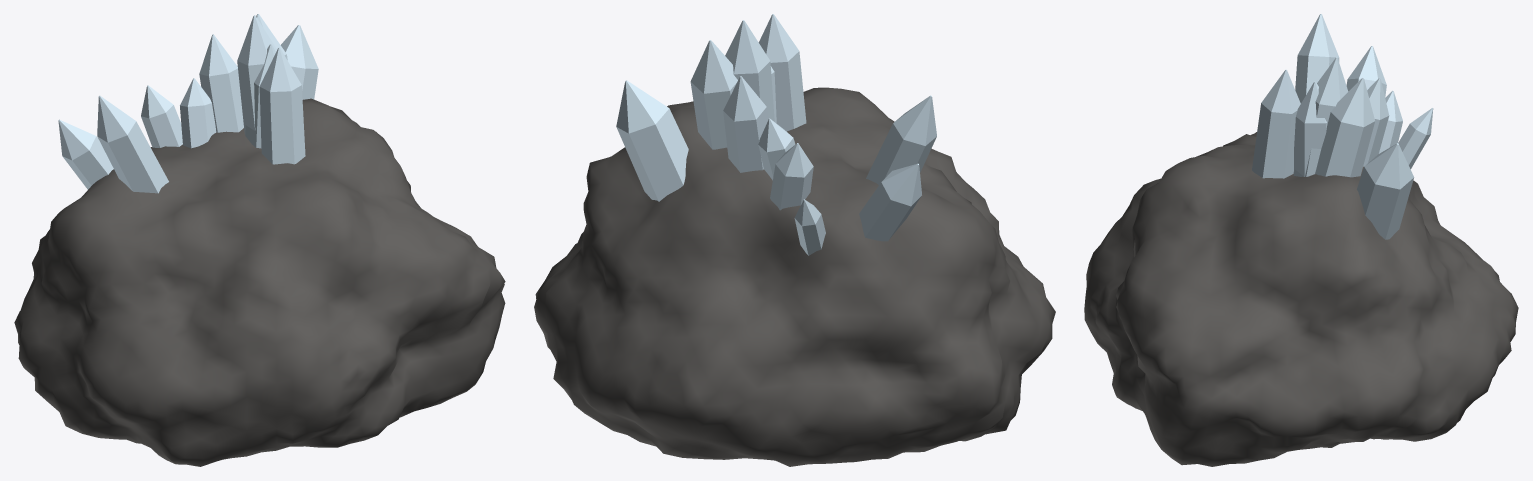
The model's file is certus_quartz_deep.glb.
3 renders of one model, left to right at view 1: azimuth 30°, elevation 25°; view 2: azimuth 150°, elevation 25°; view 3: azimuth 270°, elevation 25°, orthographic. The views are drawn at different scales.
Parts seen in each view (by area): view 1: certus_quartz_deep; view 2: certus_quartz_deep; view 3: certus_quartz_deep.
Part boxes in pixels (bbox=[...]): certus_quartz_deep: bbox=[14, 14, 505, 466]; certus_quartz_deep: bbox=[534, 14, 1055, 466]; certus_quartz_deep: bbox=[1084, 14, 1518, 466].
Size of the model in its own units: 2.37 by 1.91 by 2.22.
